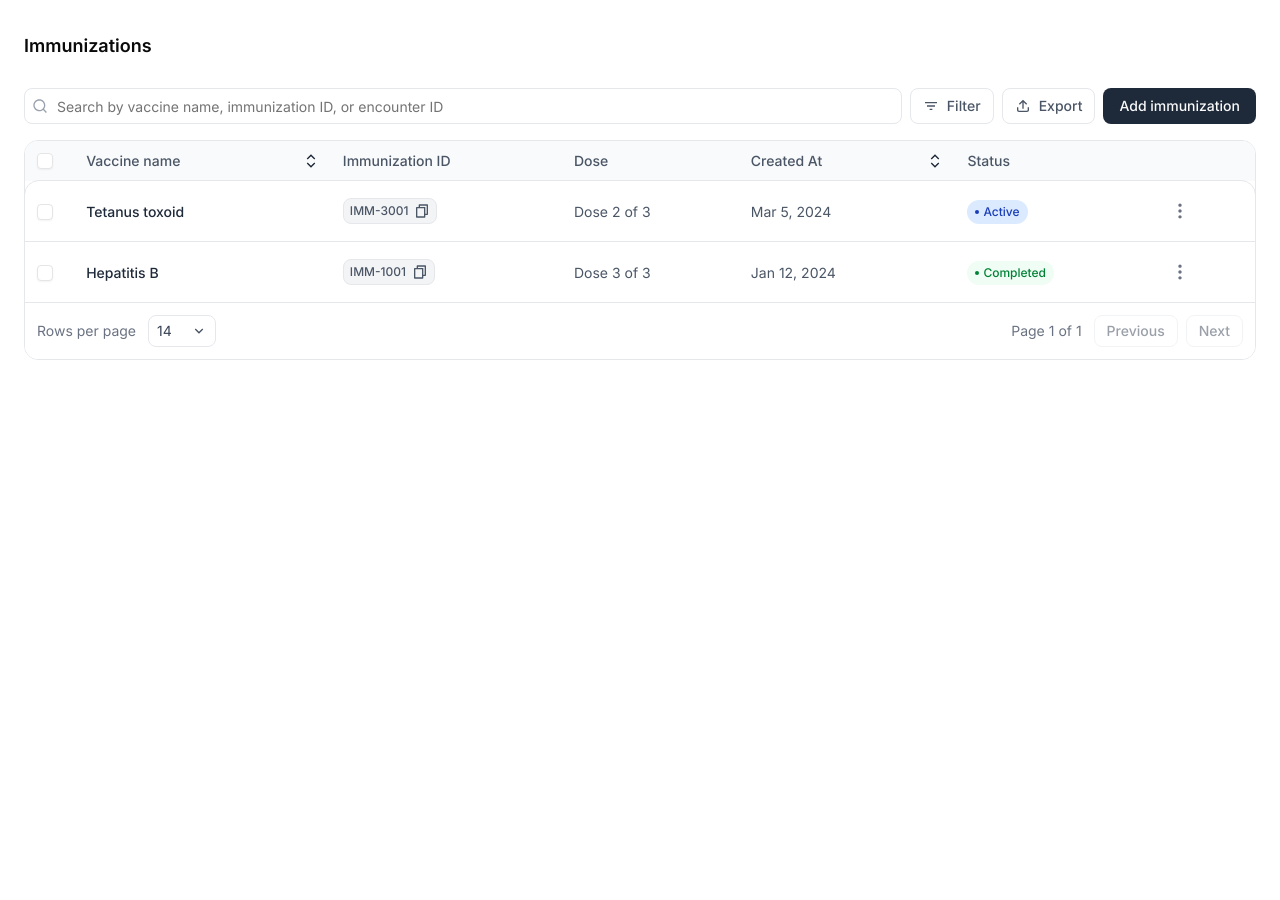
Test: Immunizations table › offers Archive to an admin in the row actions and the bulk bar
Click the button named "Open actions for Hepatitis B".
click(1180, 272)  # box left=1162, top=254, right=1198, bottom=290
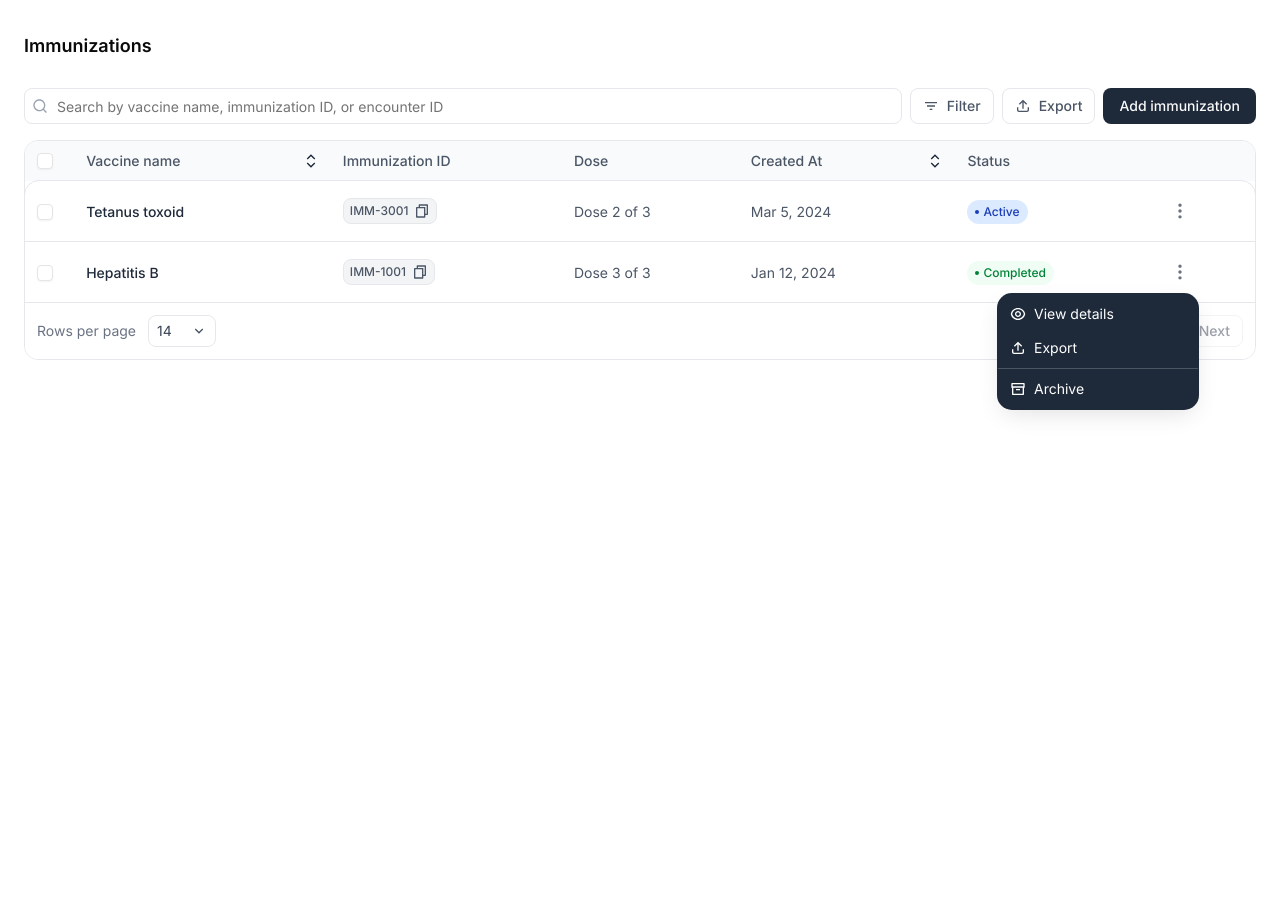
Expected: the menu item "Archive" is shown, left=1010, top=380, right=1084, bottom=397
Press Escape
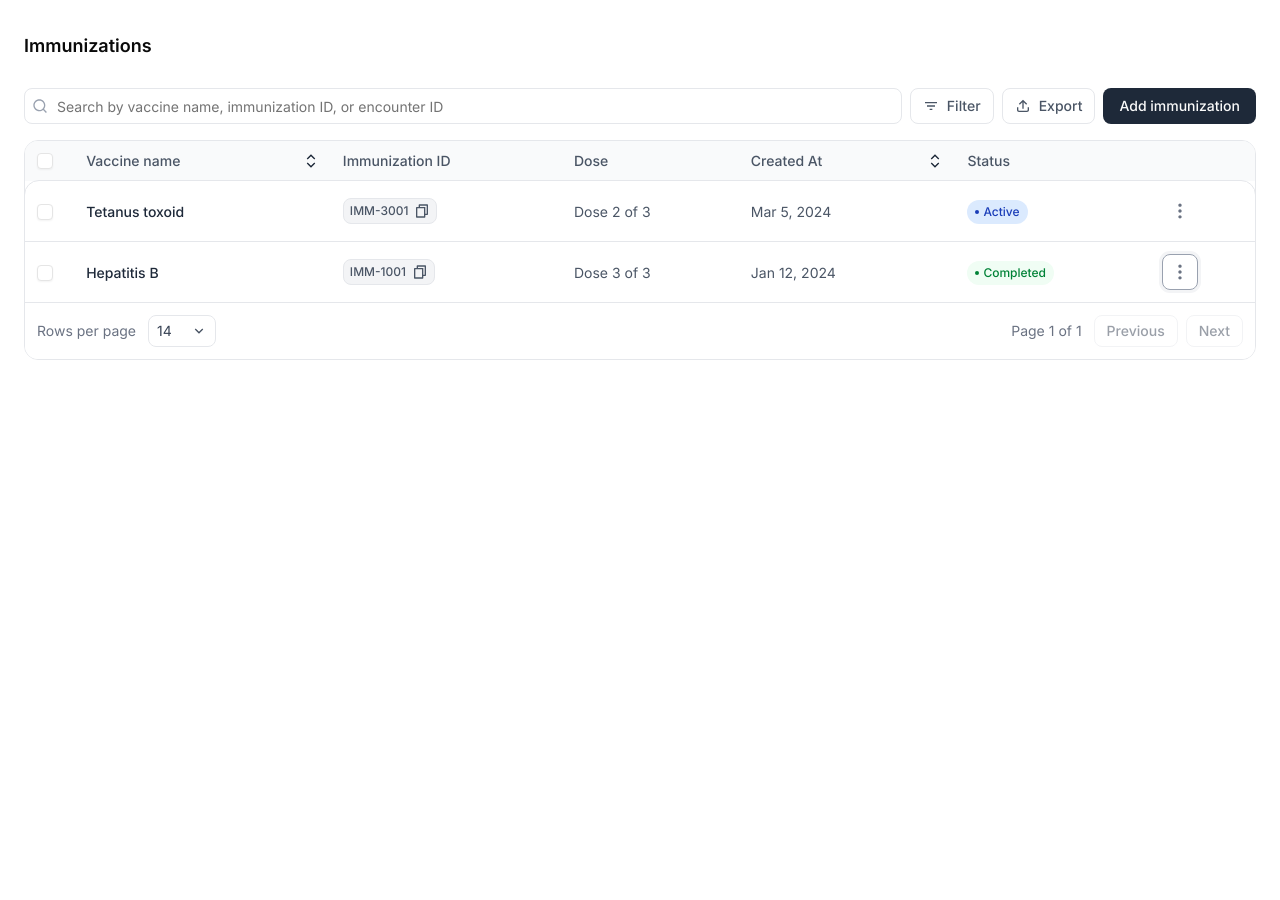
Click the 2nd checkbox.
click(45, 212)  # box left=37, top=204, right=53, bottom=220
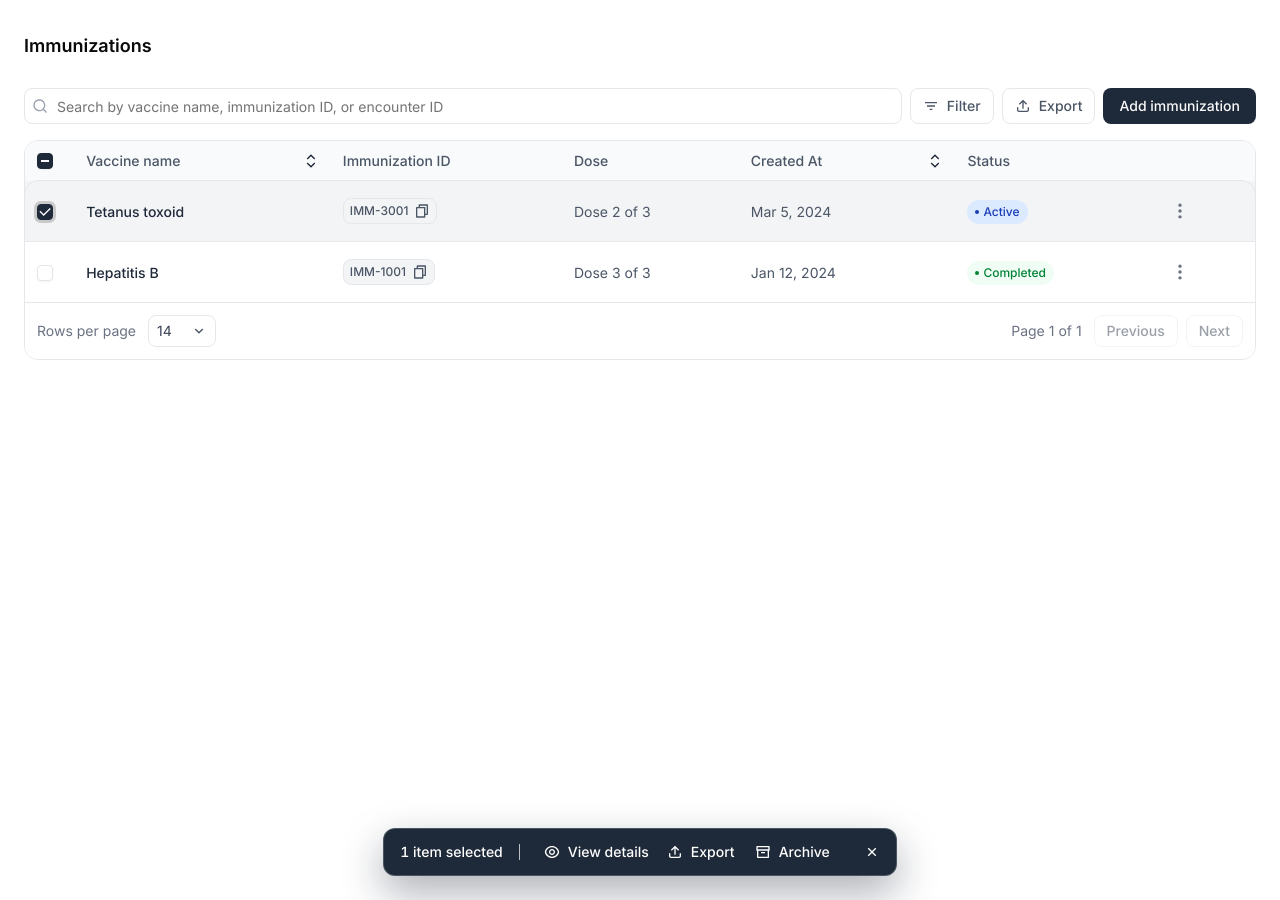
Expected: the text "1 item selected" is shown, left=400, top=842, right=503, bottom=862
Expected: the button "Archive" is shown, left=745, top=836, right=840, bottom=868
Click the 3rd checkbox.
click(45, 273)  # box left=37, top=265, right=53, bottom=281
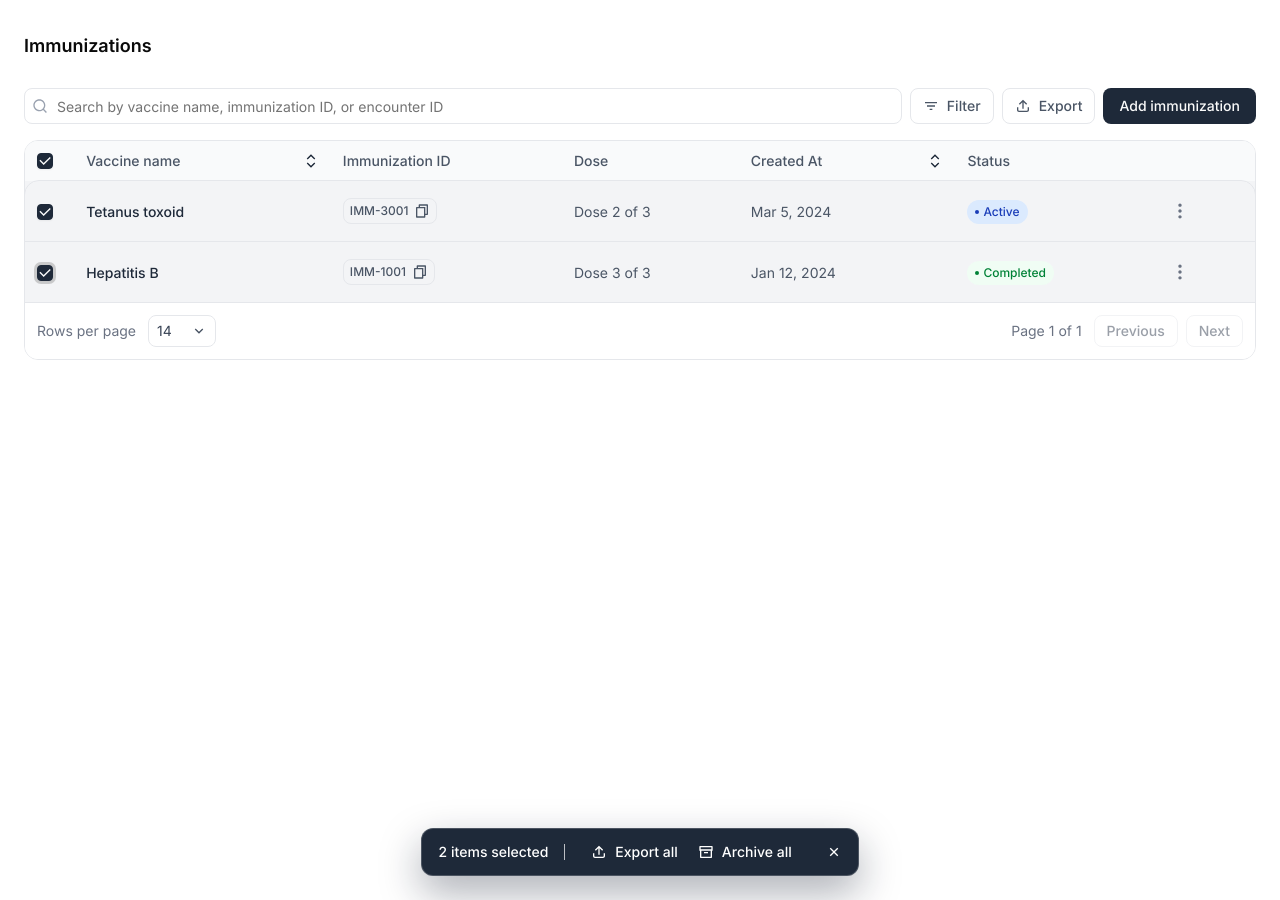
Expected: the text "2 items selected" is shown, left=438, top=842, right=548, bottom=862
Expected: the button "Archive all" is shown, left=688, top=836, right=802, bottom=868
Click the button named "Clear selected immunizations".
click(834, 852)  # box left=818, top=836, right=850, bottom=868
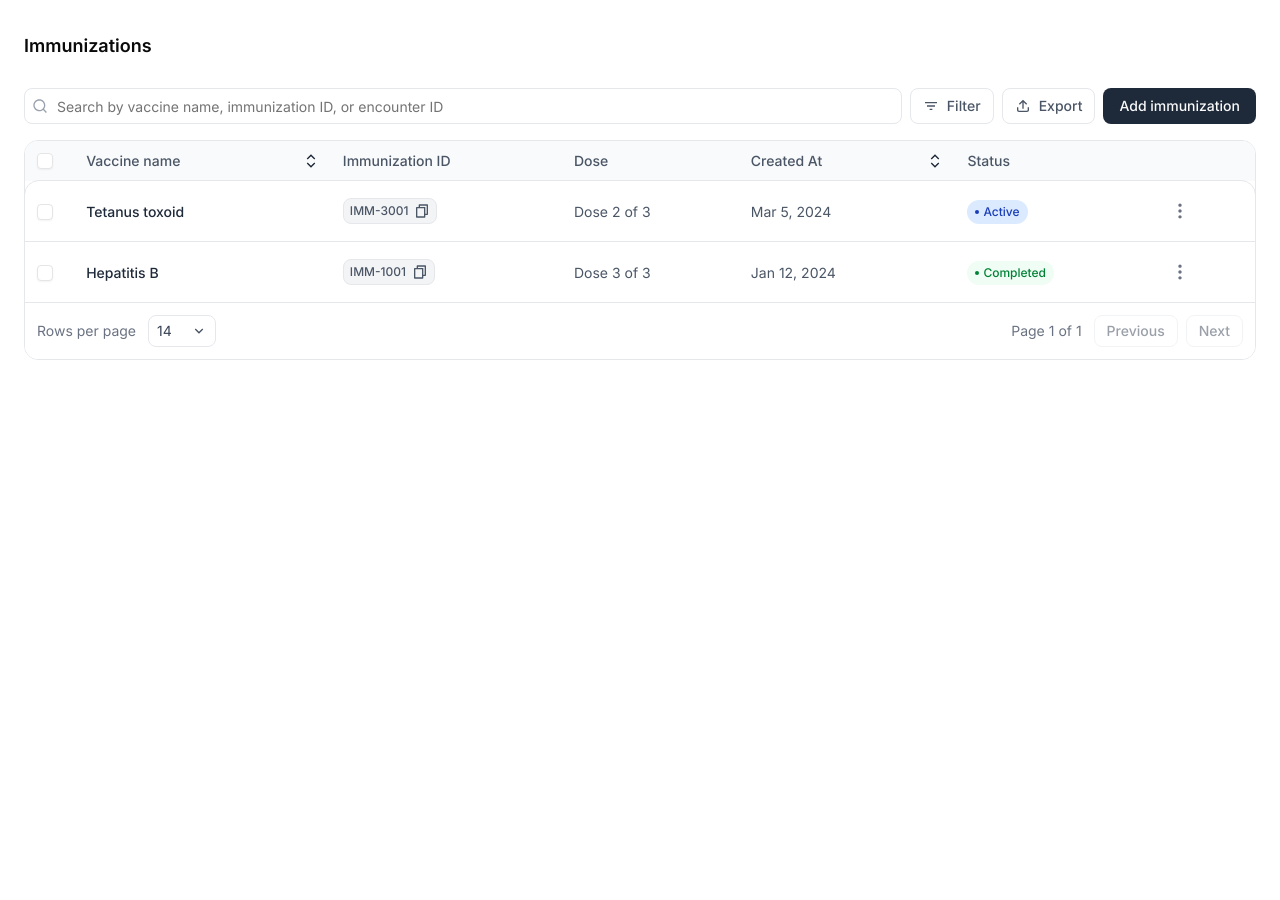
Expected: the text "selected" is gone
